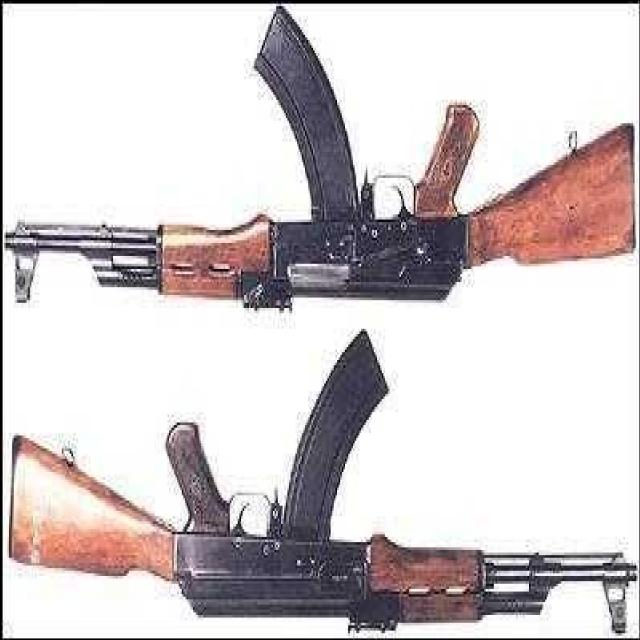heavyweapon: (5, 1, 639, 358), (14, 373, 640, 640)
